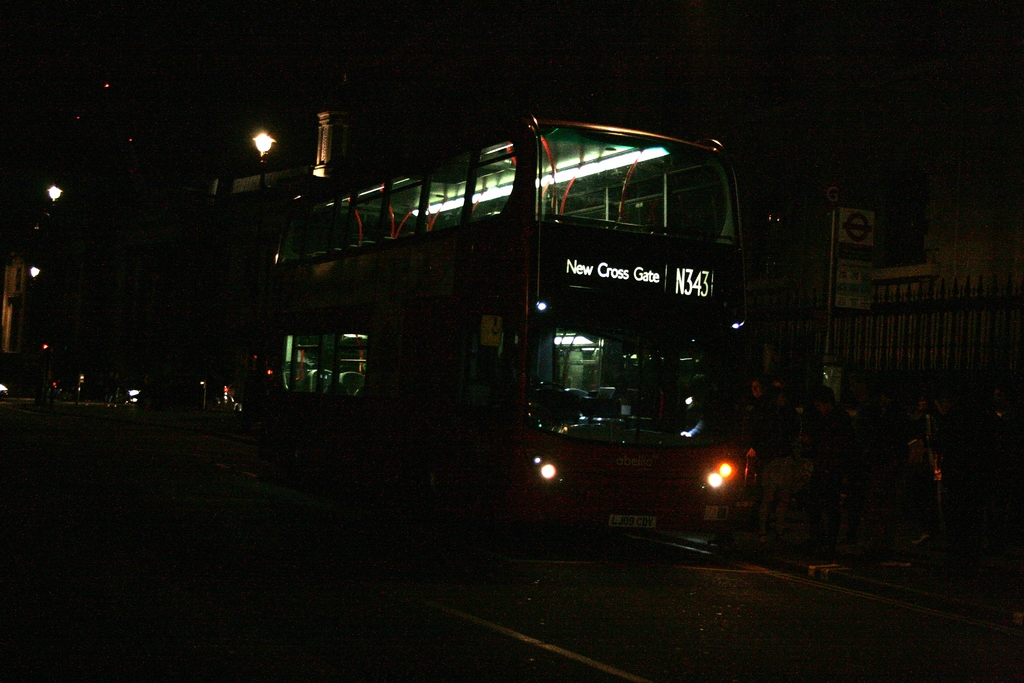Bus: (262, 114, 755, 534)
